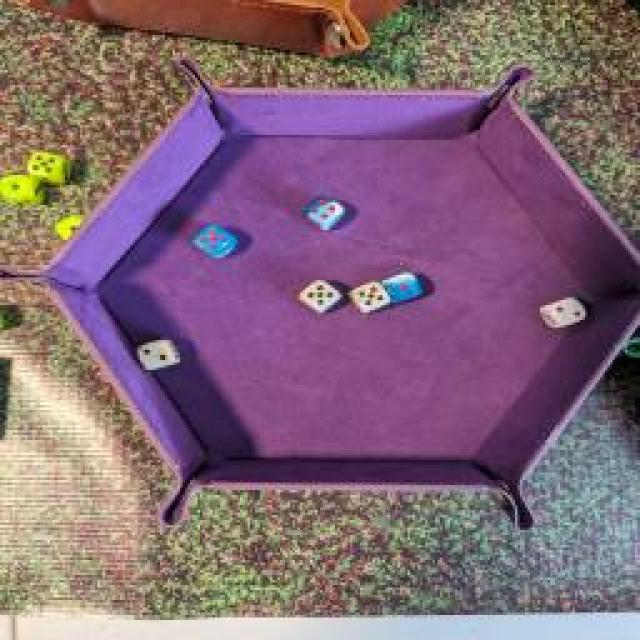dice_1: (380, 265, 425, 307), (0, 171, 42, 208), (55, 211, 87, 244)
dice_2: (132, 335, 182, 375), (535, 295, 587, 330)
dice_4: (296, 190, 354, 232)
dice_5: (26, 145, 76, 183), (290, 275, 340, 313), (346, 276, 389, 314), (192, 222, 232, 260)
